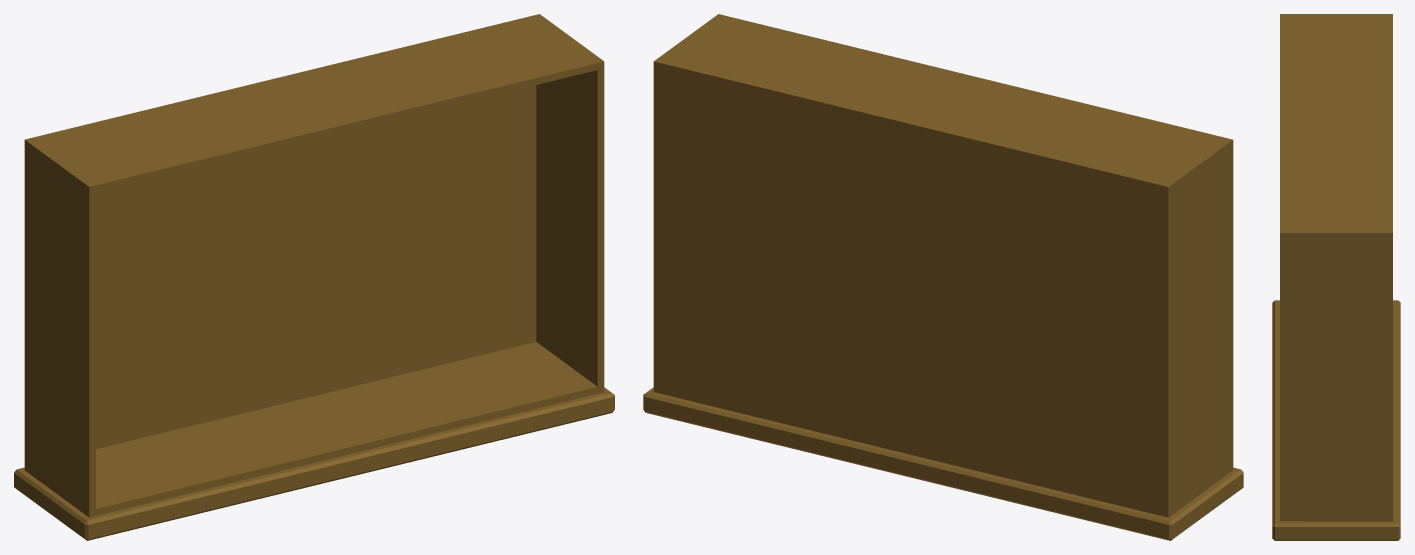
File: DrawermeshDresserDrawer_315_7_3.obj
The picture shows the model from 3 angles, left to right: view 1: azimuth 30°, elevation 25°; view 2: azimuth 150°, elevation 25°; view 3: azimuth 270°, elevation 25°; orthographic projection. The views are drawn at different scales.
Visible parts, largest first — view 1: DresserDrawer_315_7; view 2: DresserDrawer_315_7; view 3: DresserDrawer_315_7.
Boxes of the visible parts, x1,y1,x2,y2 form: DresserDrawer_315_7: [14, 14, 614, 540]; DresserDrawer_315_7: [643, 14, 1243, 540]; DresserDrawer_315_7: [1272, 14, 1400, 540].
Bounding box in the file's own units: 0.7899 × 0.5169 × 0.1902.
